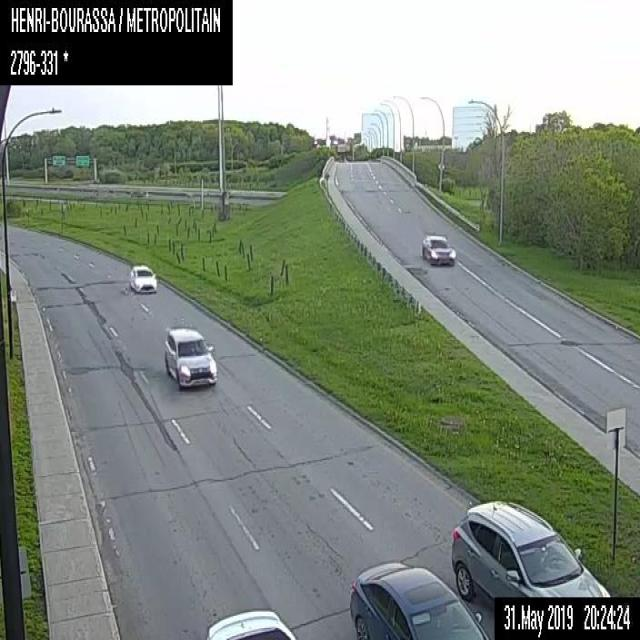vehicle: (451, 498, 610, 598), (349, 560, 492, 638), (162, 324, 216, 391), (205, 606, 298, 638), (420, 232, 456, 265), (128, 262, 157, 294)
